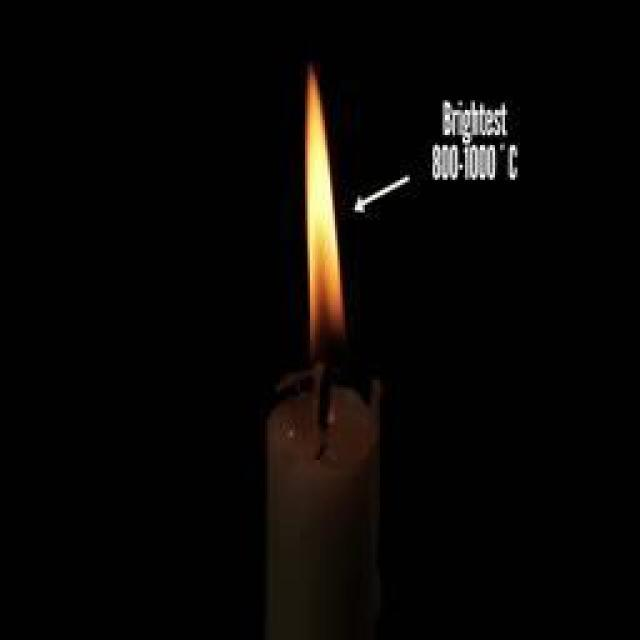Fire: (300, 76, 342, 342)
